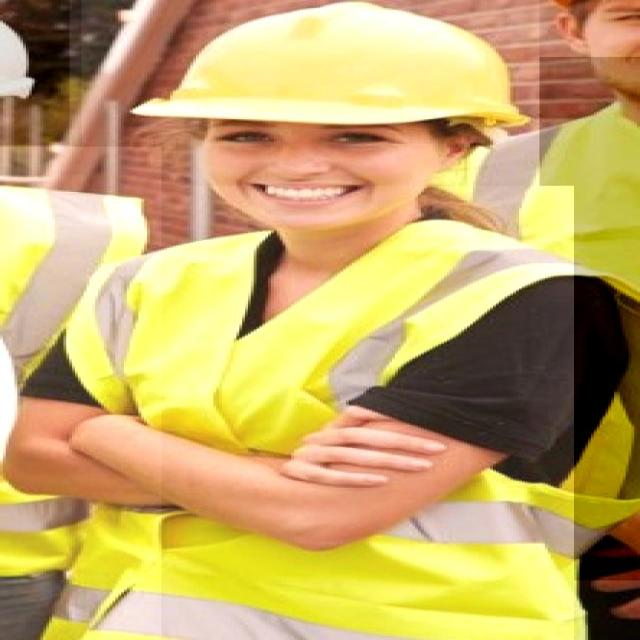Helmet: (82, 0, 540, 224), (0, 0, 70, 145)
Safety Vest: (60, 186, 574, 640), (420, 57, 640, 580), (0, 146, 161, 640)
